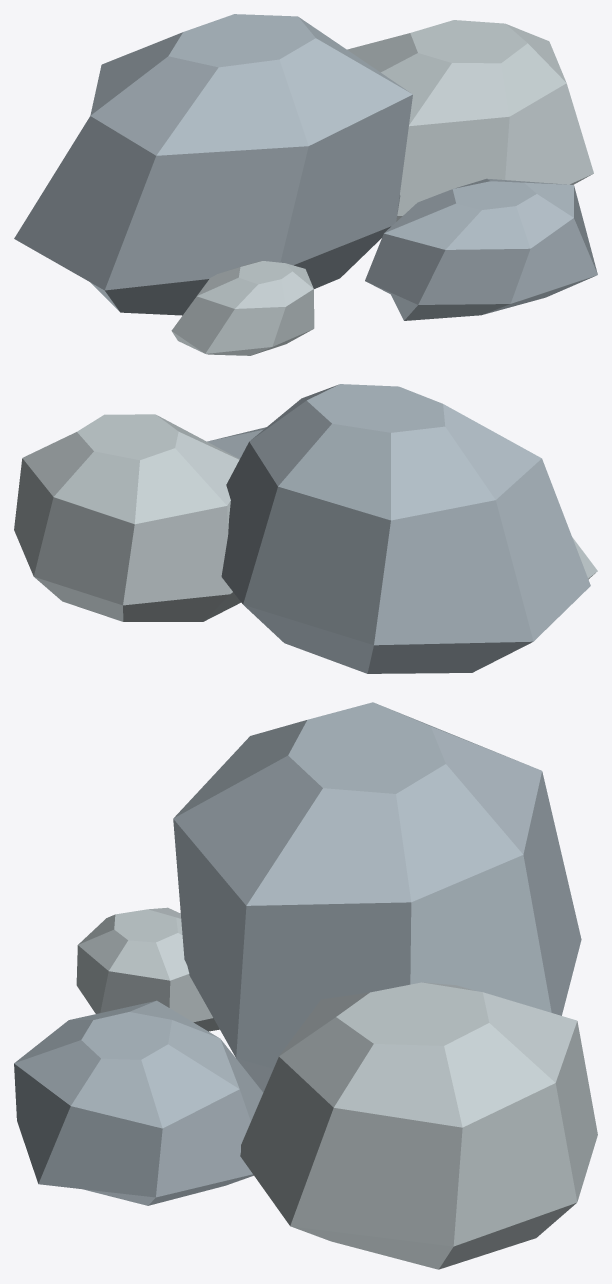
The model's file is rock_cluster.glb.
The picture shows the model from 3 angles, top to bottom: view 1: azimuth 30°, elevation 25°; view 2: azimuth 150°, elevation 25°; view 3: azimuth 270°, elevation 25°; orthographic projection. The views are drawn at different scales.
Visible parts, largest first — view 1: garden_stone_0, garden_stone_1, garden_stone_2, garden_stone_3; view 2: garden_stone_0, garden_stone_1, garden_stone_2; view 3: garden_stone_0, garden_stone_1, garden_stone_2, garden_stone_3.
Part boxes in pixels (x1,y1,x2,y2): garden_stone_0: [14, 14, 412, 315]; garden_stone_1: [347, 20, 593, 221]; garden_stone_2: [365, 178, 597, 320]; garden_stone_3: [171, 261, 314, 355]; garden_stone_0: [221, 384, 590, 673]; garden_stone_1: [14, 414, 240, 621]; garden_stone_2: [207, 427, 266, 458]; garden_stone_0: [173, 702, 581, 1092]; garden_stone_1: [240, 982, 597, 1269]; garden_stone_2: [14, 1000, 263, 1205]; garden_stone_3: [76, 907, 219, 1031].
Bounding box in the file's own units: 1.37 × 0.5358 × 0.9246.
